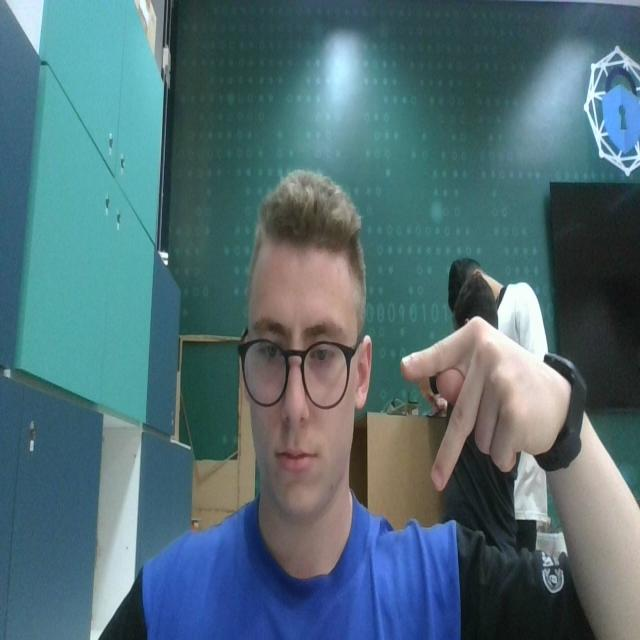P: (396, 315, 548, 501)
